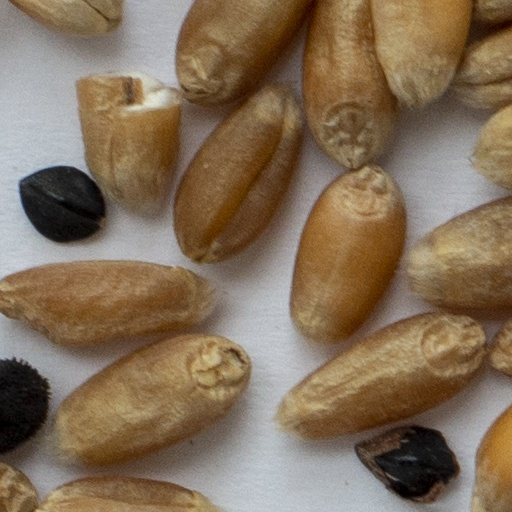Agrostemma-poly: (0, 361, 48, 453)
Fallopia-Convolvulus-poly: (356, 422, 456, 501), (20, 166, 103, 240)
Wheat-grain-damaged-poly: (77, 71, 176, 216)
Wheat-grain-poly: (10, 0, 122, 34)
